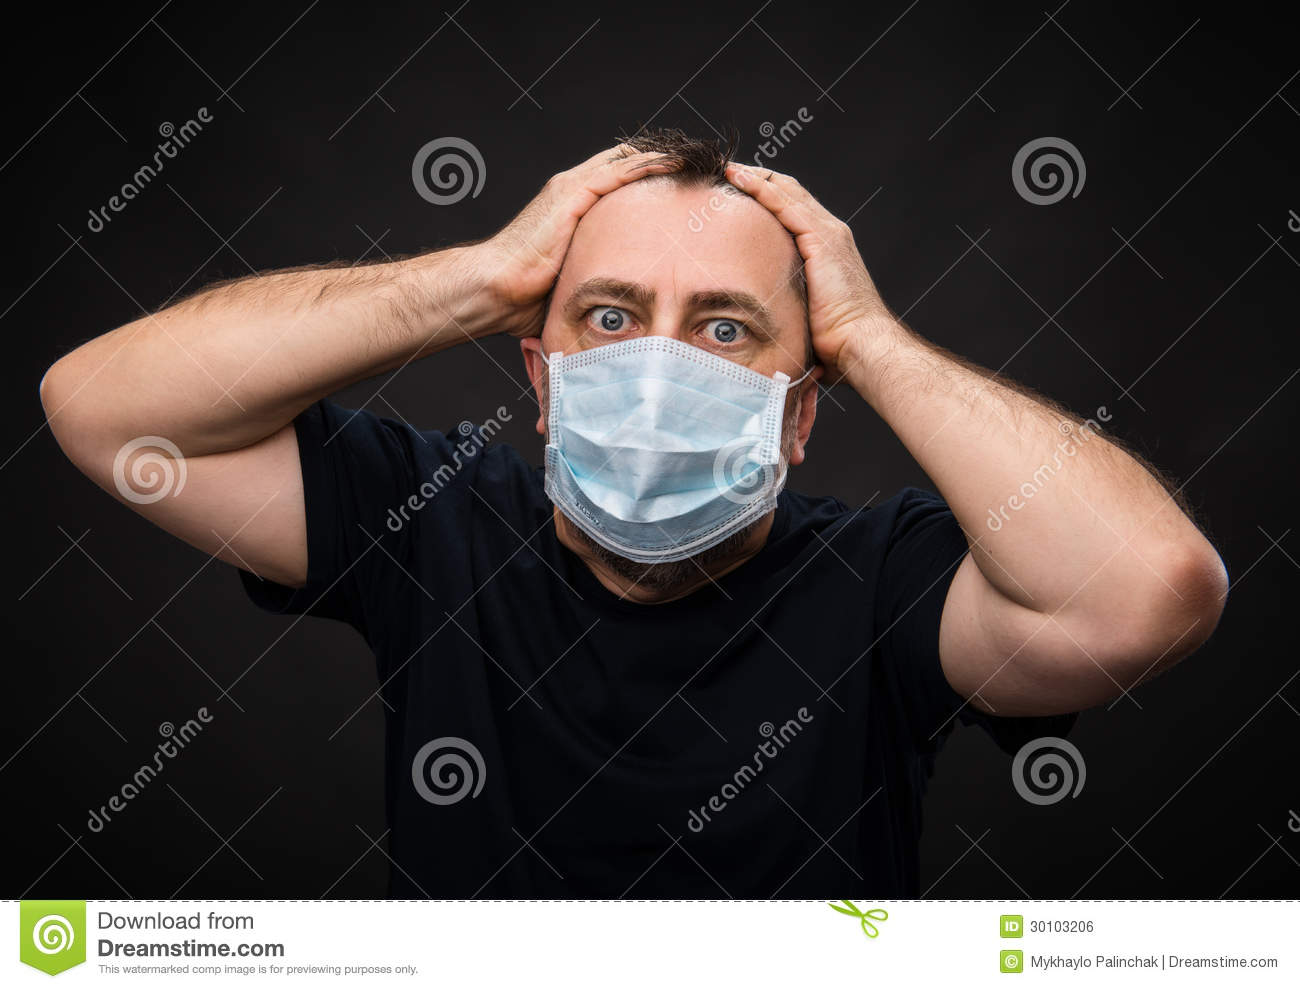mask: (544, 340, 778, 567)
